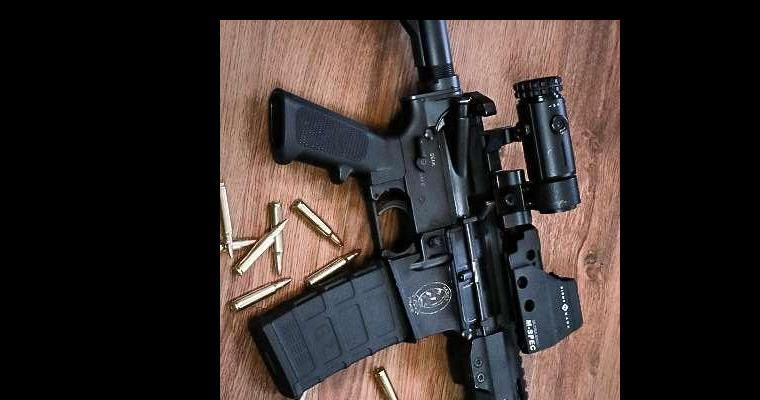larga: (247, 19, 584, 400)
